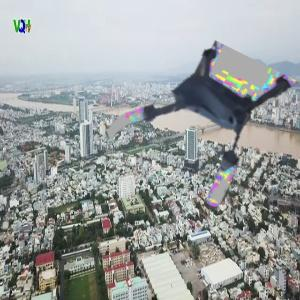drone: (113, 39, 275, 201)
